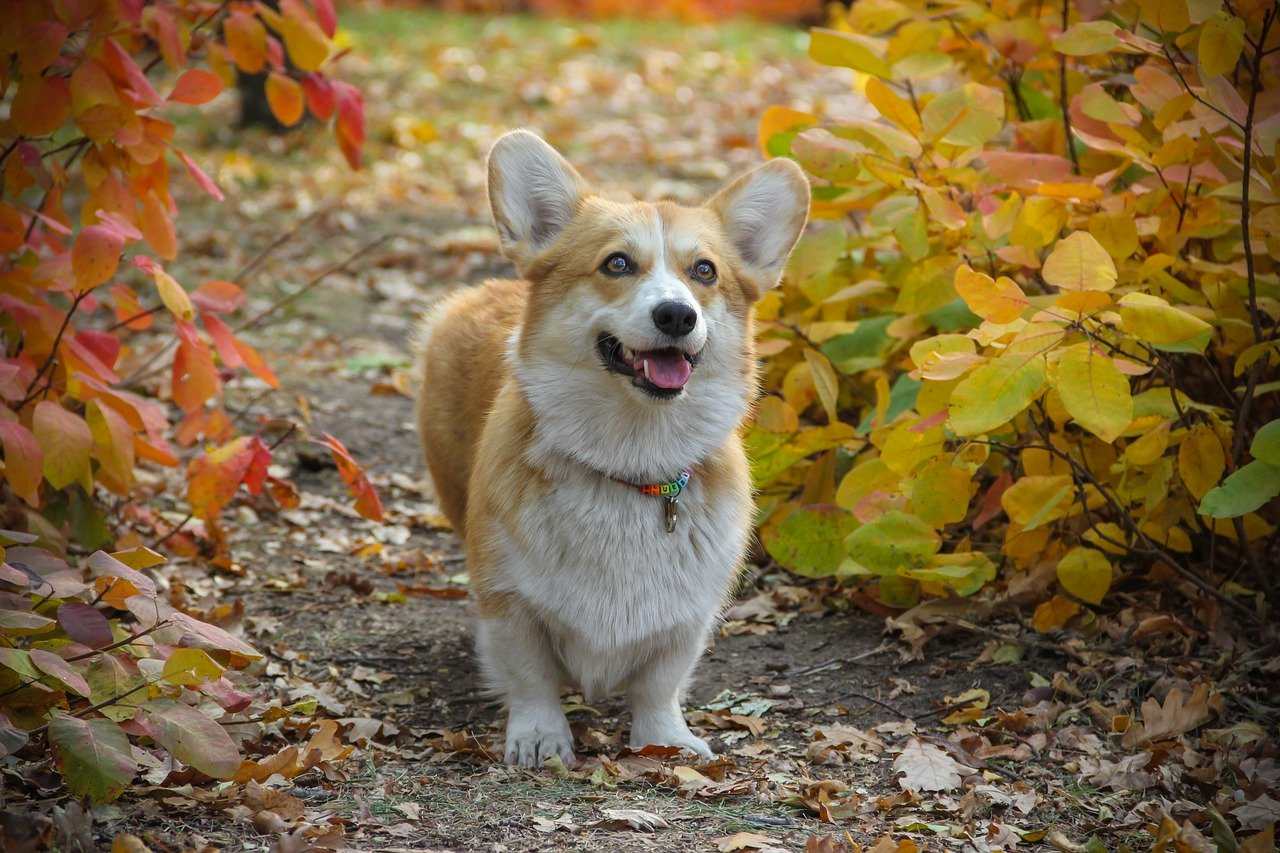corgi: (403, 123, 820, 766)
